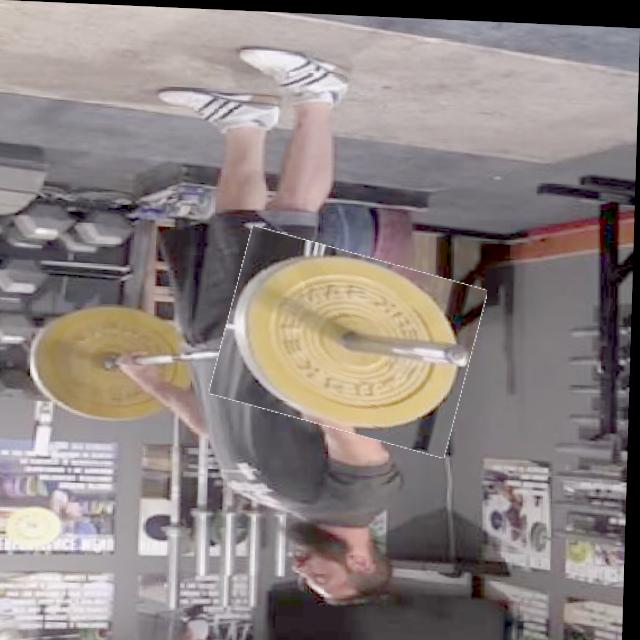barbell: (219, 235, 483, 443)
